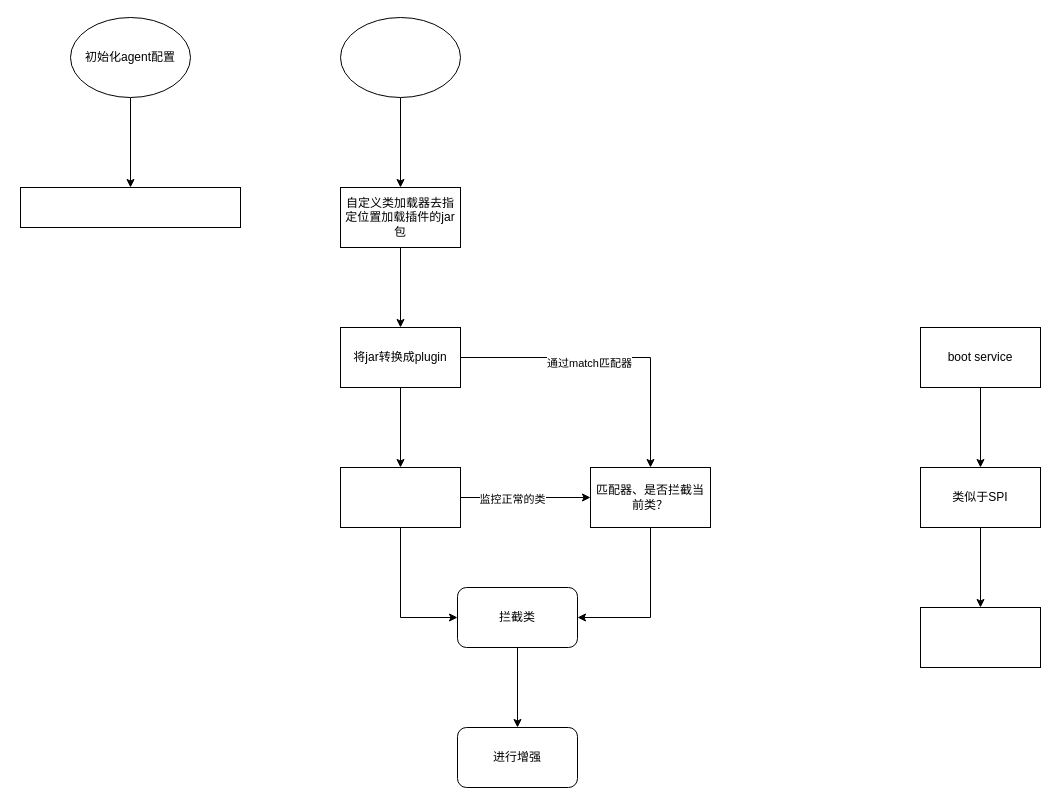
Image size: 1058x805. Some labels were removed from this diagram. The shapes that lost their labels are listed below. From the top down, each one's box as (x1, y1, x2, y2) in pixels, then its label:
(340, 16, 460, 98): agent
(20, 186, 240, 228): SnifferConfigInitializer#initializeCoreConfig
(340, 466, 460, 528): 正常启动程序、 加载Java类
(920, 606, 1040, 668): 启动需要的服务类对象
